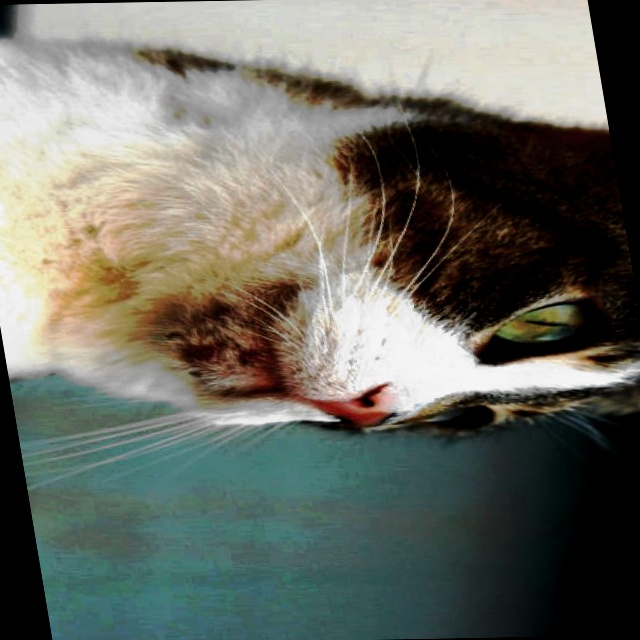acne: (155, 308, 272, 388)
